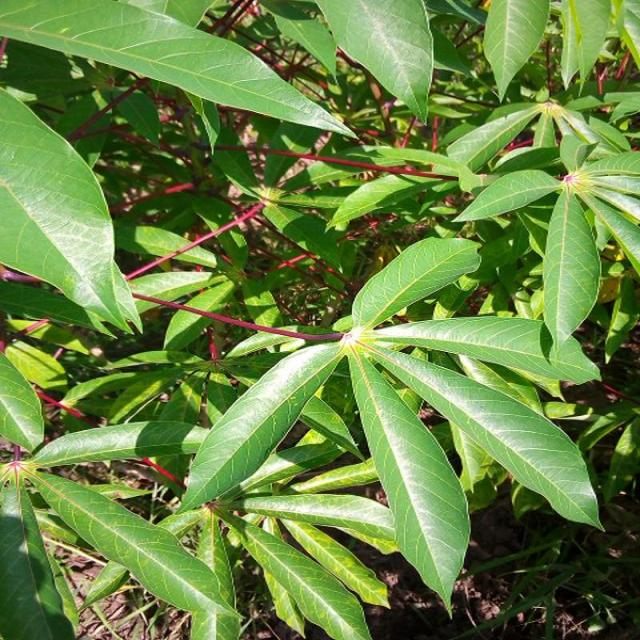cassava leaf: (178, 233, 604, 620), (0, 0, 358, 141), (0, 86, 143, 337), (346, 340, 471, 619), (178, 337, 346, 513)
